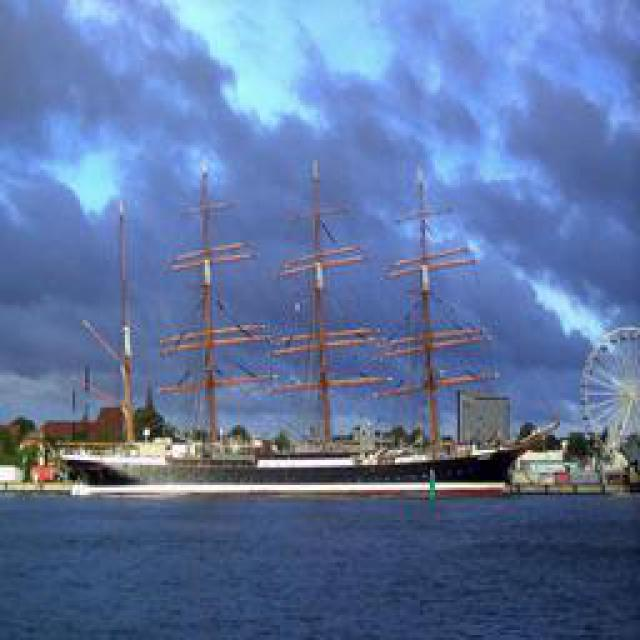Ship: (51, 157, 556, 497)
